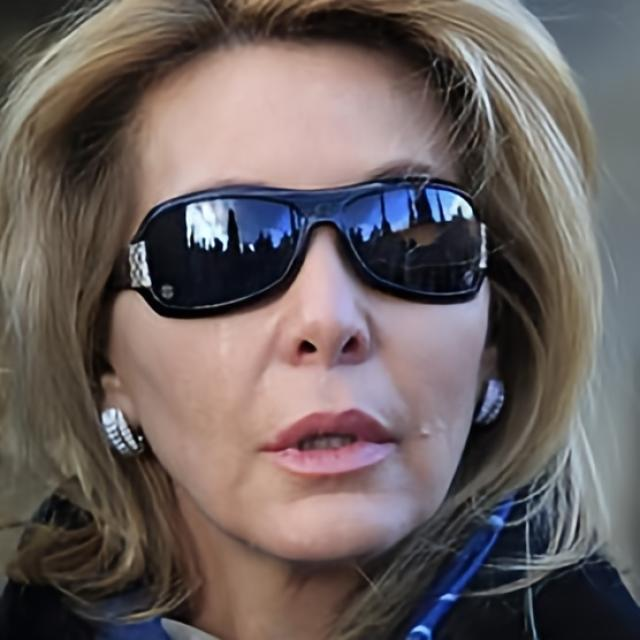surprise: (110, 38, 489, 563)
